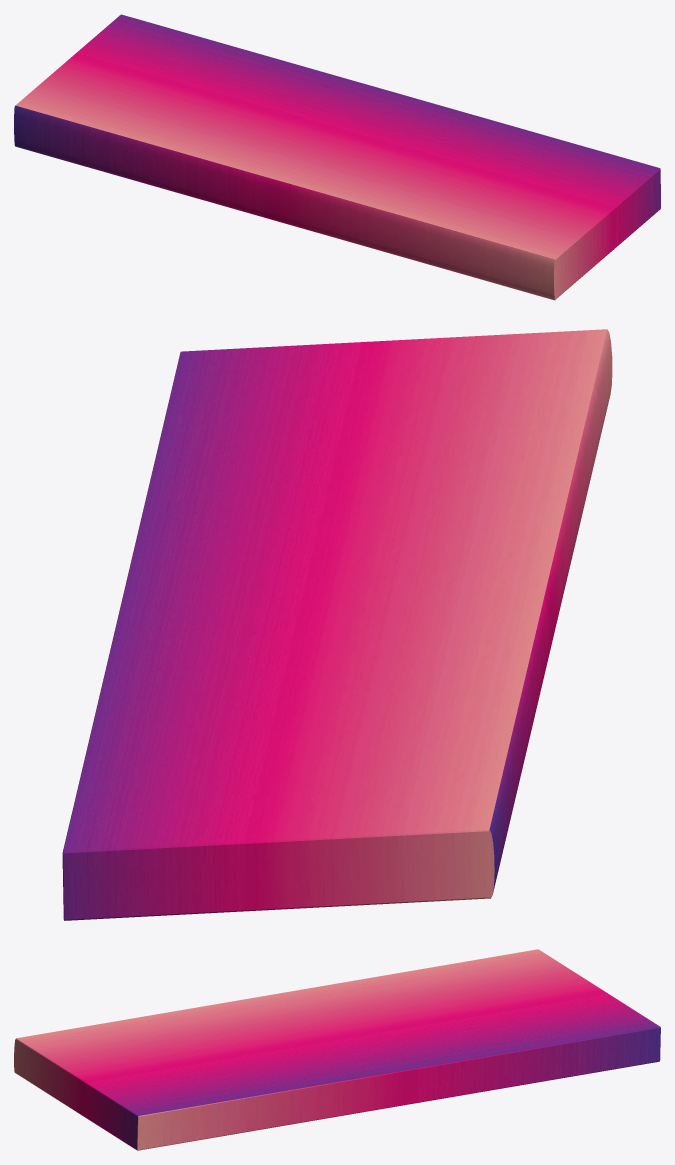
File: Repisasalma1.obj
3 renders of one model, top to bottom at view 1: azimuth 30°, elevation 25°; view 2: azimuth 150°, elevation 25°; view 3: azimuth 270°, elevation 25°, orthographic. The views are drawn at different scales.
Parts seen in each view (by area): view 1: Repisasalma:shelf; view 2: Repisasalma:shelf; view 3: Repisasalma:shelf.
Boxes of the visible parts, <box> form: Repisasalma:shelf: <box>14,14,660,300</box>; Repisasalma:shelf: <box>62,329,612,920</box>; Repisasalma:shelf: <box>14,949,660,1150</box>.
Size of the model in its own units: 8.73 by 1.12 by 13.72.
Materials: 1 (1 with a texture image).
